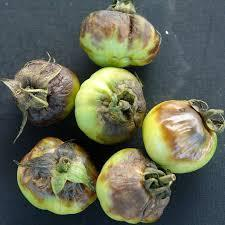tomato late blight: (1, 54, 80, 145), (18, 138, 100, 217), (96, 148, 178, 225), (142, 100, 225, 176), (75, 68, 149, 148), (80, 11, 163, 70)
